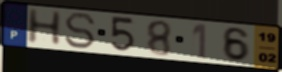1: (189, 22, 208, 61)
5: (109, 15, 138, 53)
6: (220, 26, 253, 64)
8: (145, 19, 174, 57)
H: (25, 8, 64, 47)
S: (63, 12, 98, 50)
